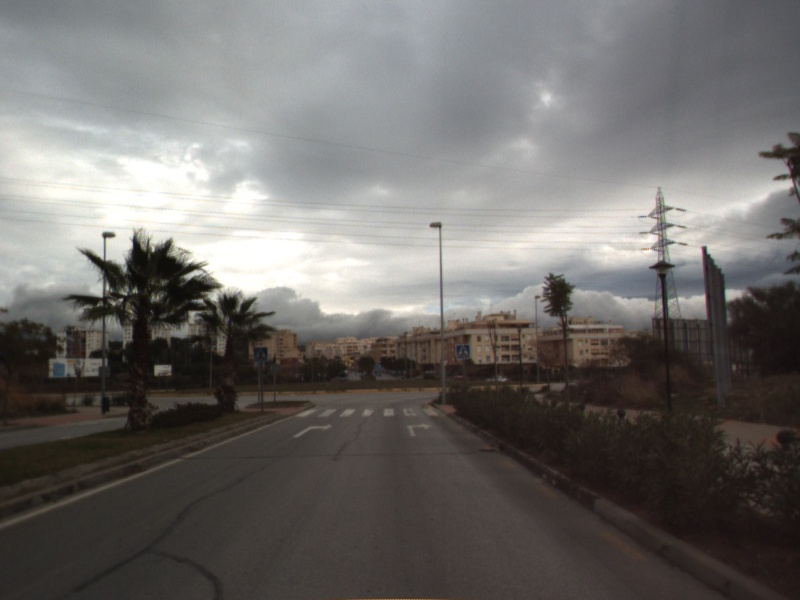RIGHT: (290, 422, 335, 440), (405, 420, 434, 438)
